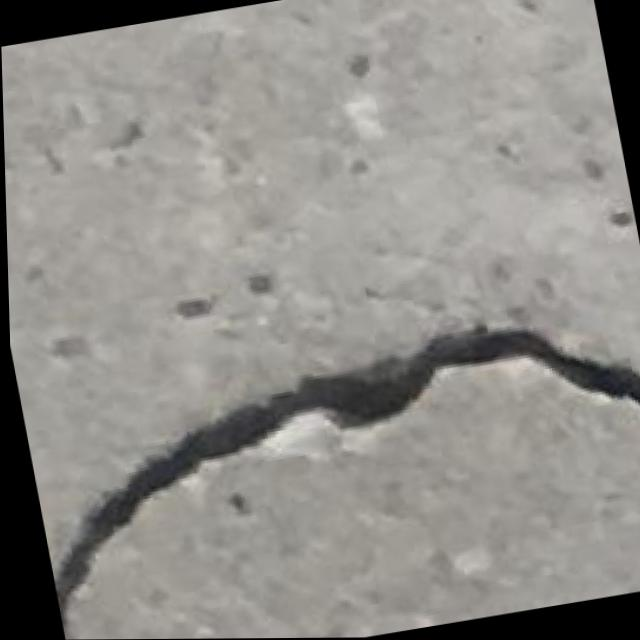Crack: (17, 287, 640, 640)
